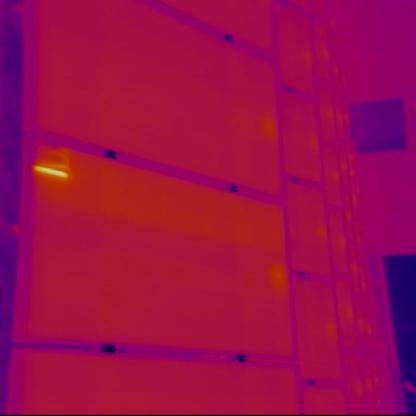anomaly: (32, 156, 72, 183)
